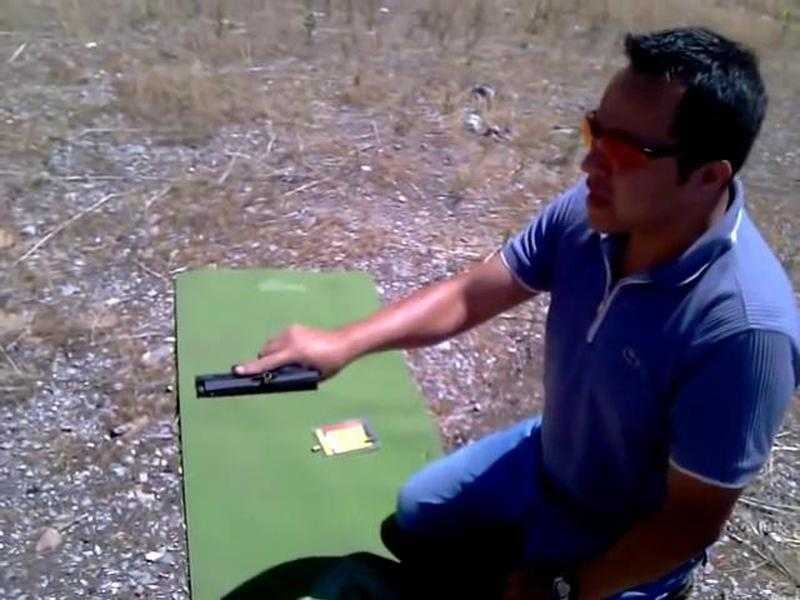Pistola: (185, 332, 352, 419)
